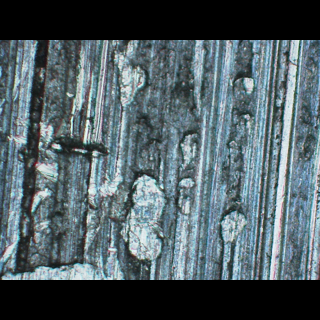d: (118, 171, 168, 267), (222, 73, 258, 204), (110, 48, 147, 110), (219, 208, 250, 246), (174, 171, 199, 217), (174, 132, 202, 169)
